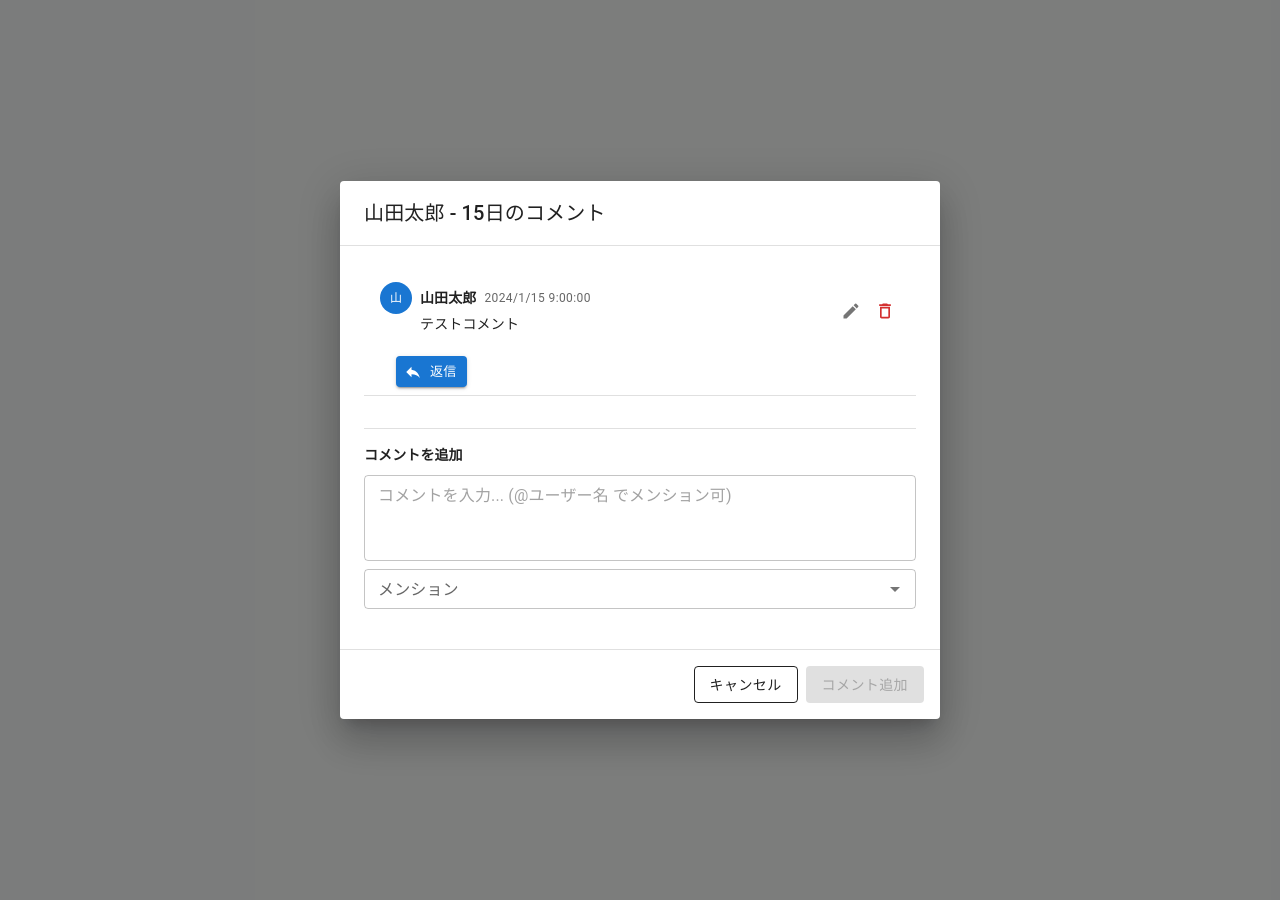
Test: CellCommentDialog › 返信機能 › 返信ボタンをクリックすると返信フォームが表示される
What coordinates should you click on to do the following:
click the button "返信"
I would click on:
 (431, 372)
Its box is [396,356,467,387].
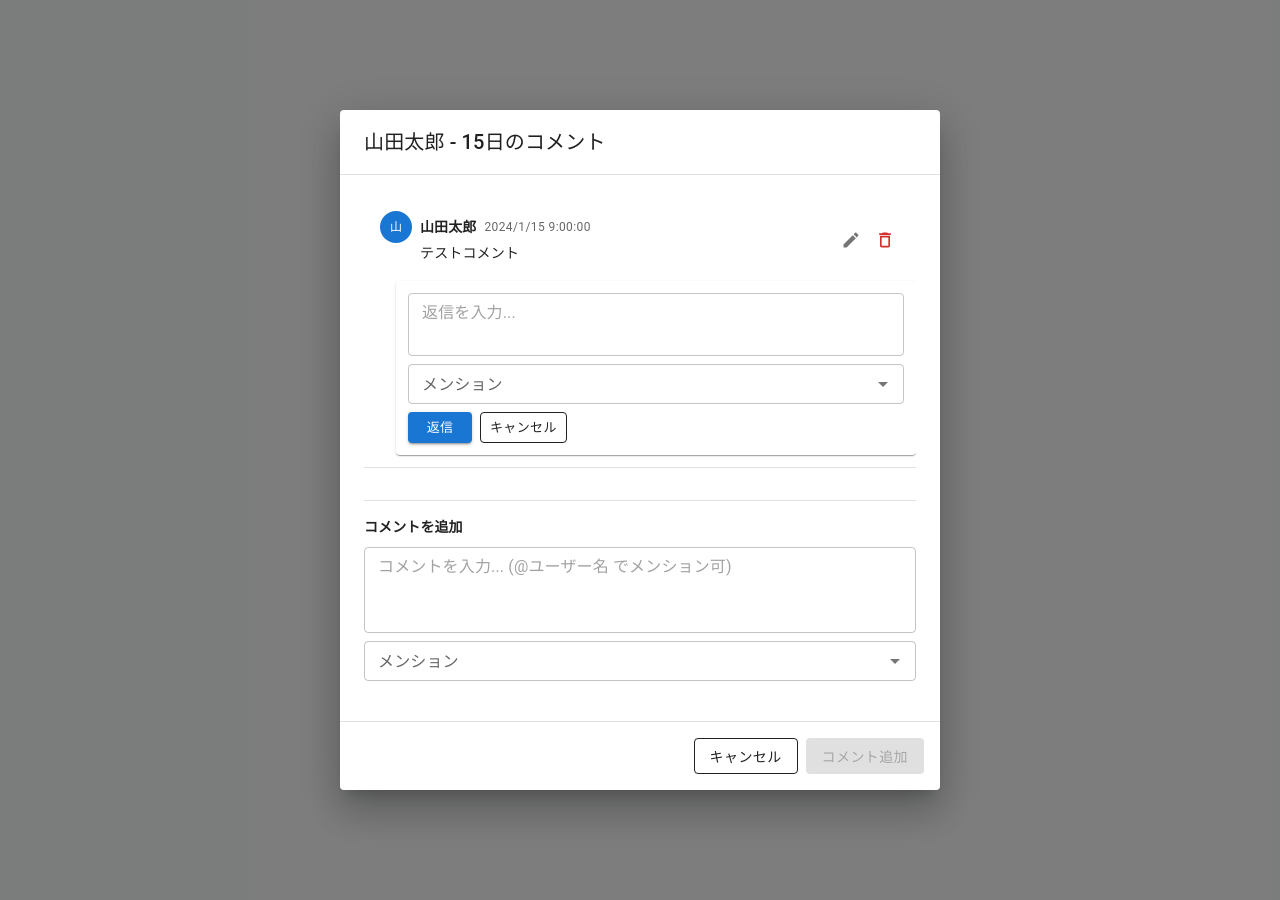
Result: the text box with placeholder "返信を入力..." is shown at [422,301,890,347]
